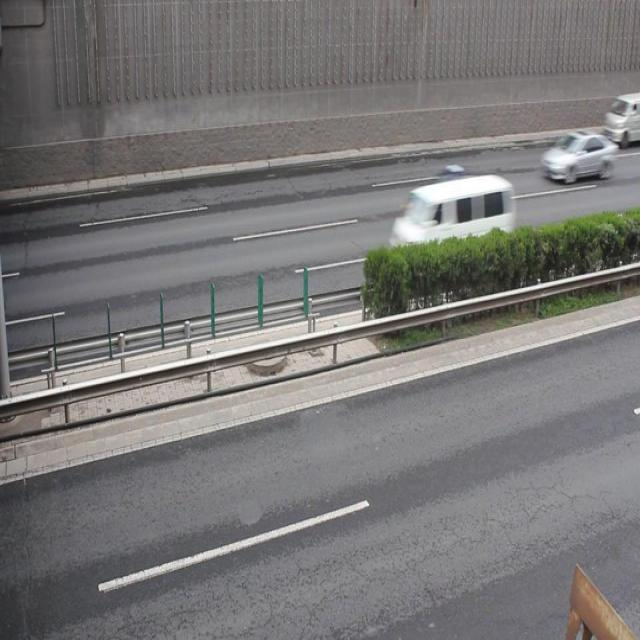car: (401, 171, 493, 238), (538, 128, 612, 184)
truck: (387, 174, 514, 288)
